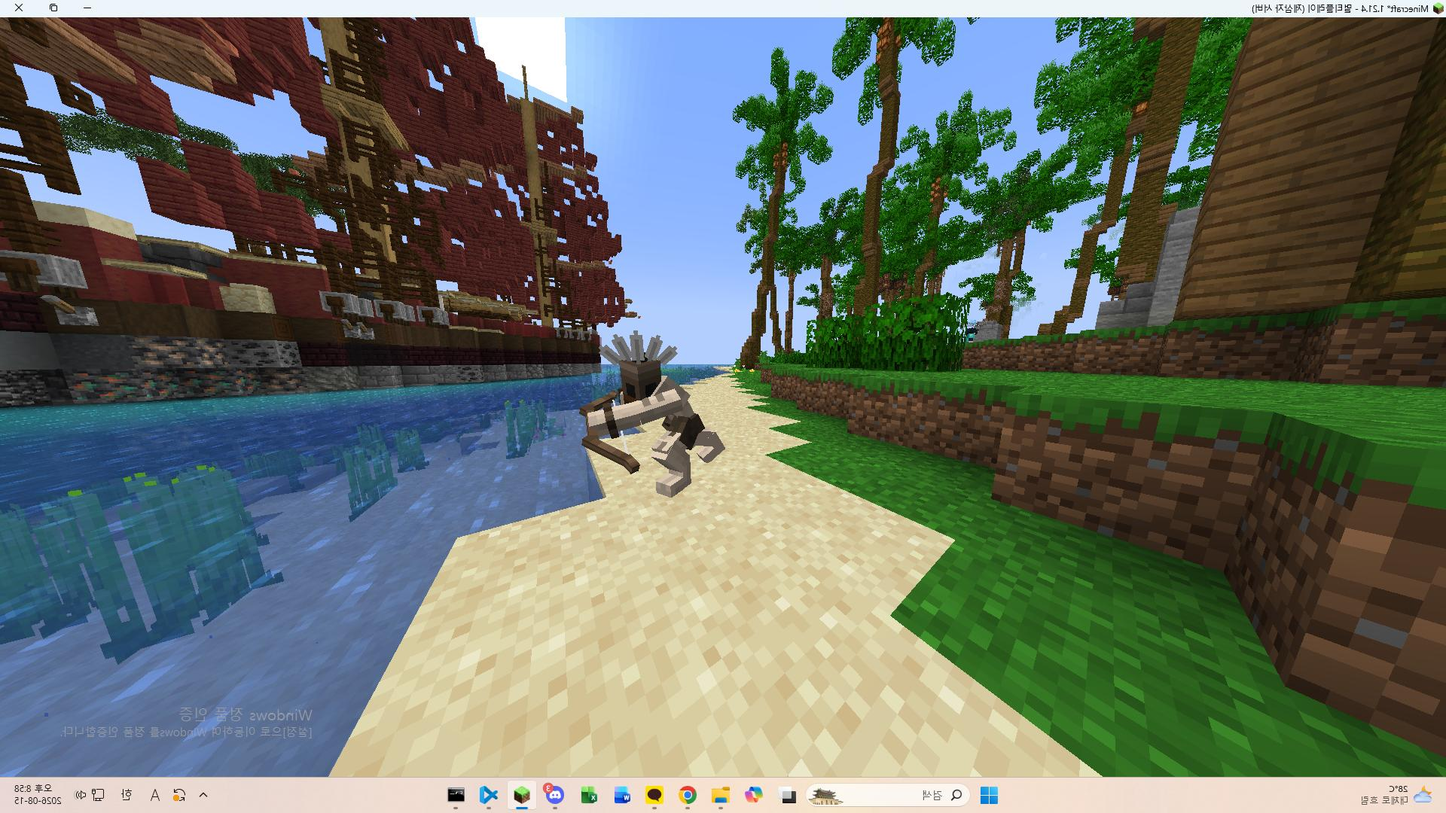bow_indian: (539, 324, 737, 536)
